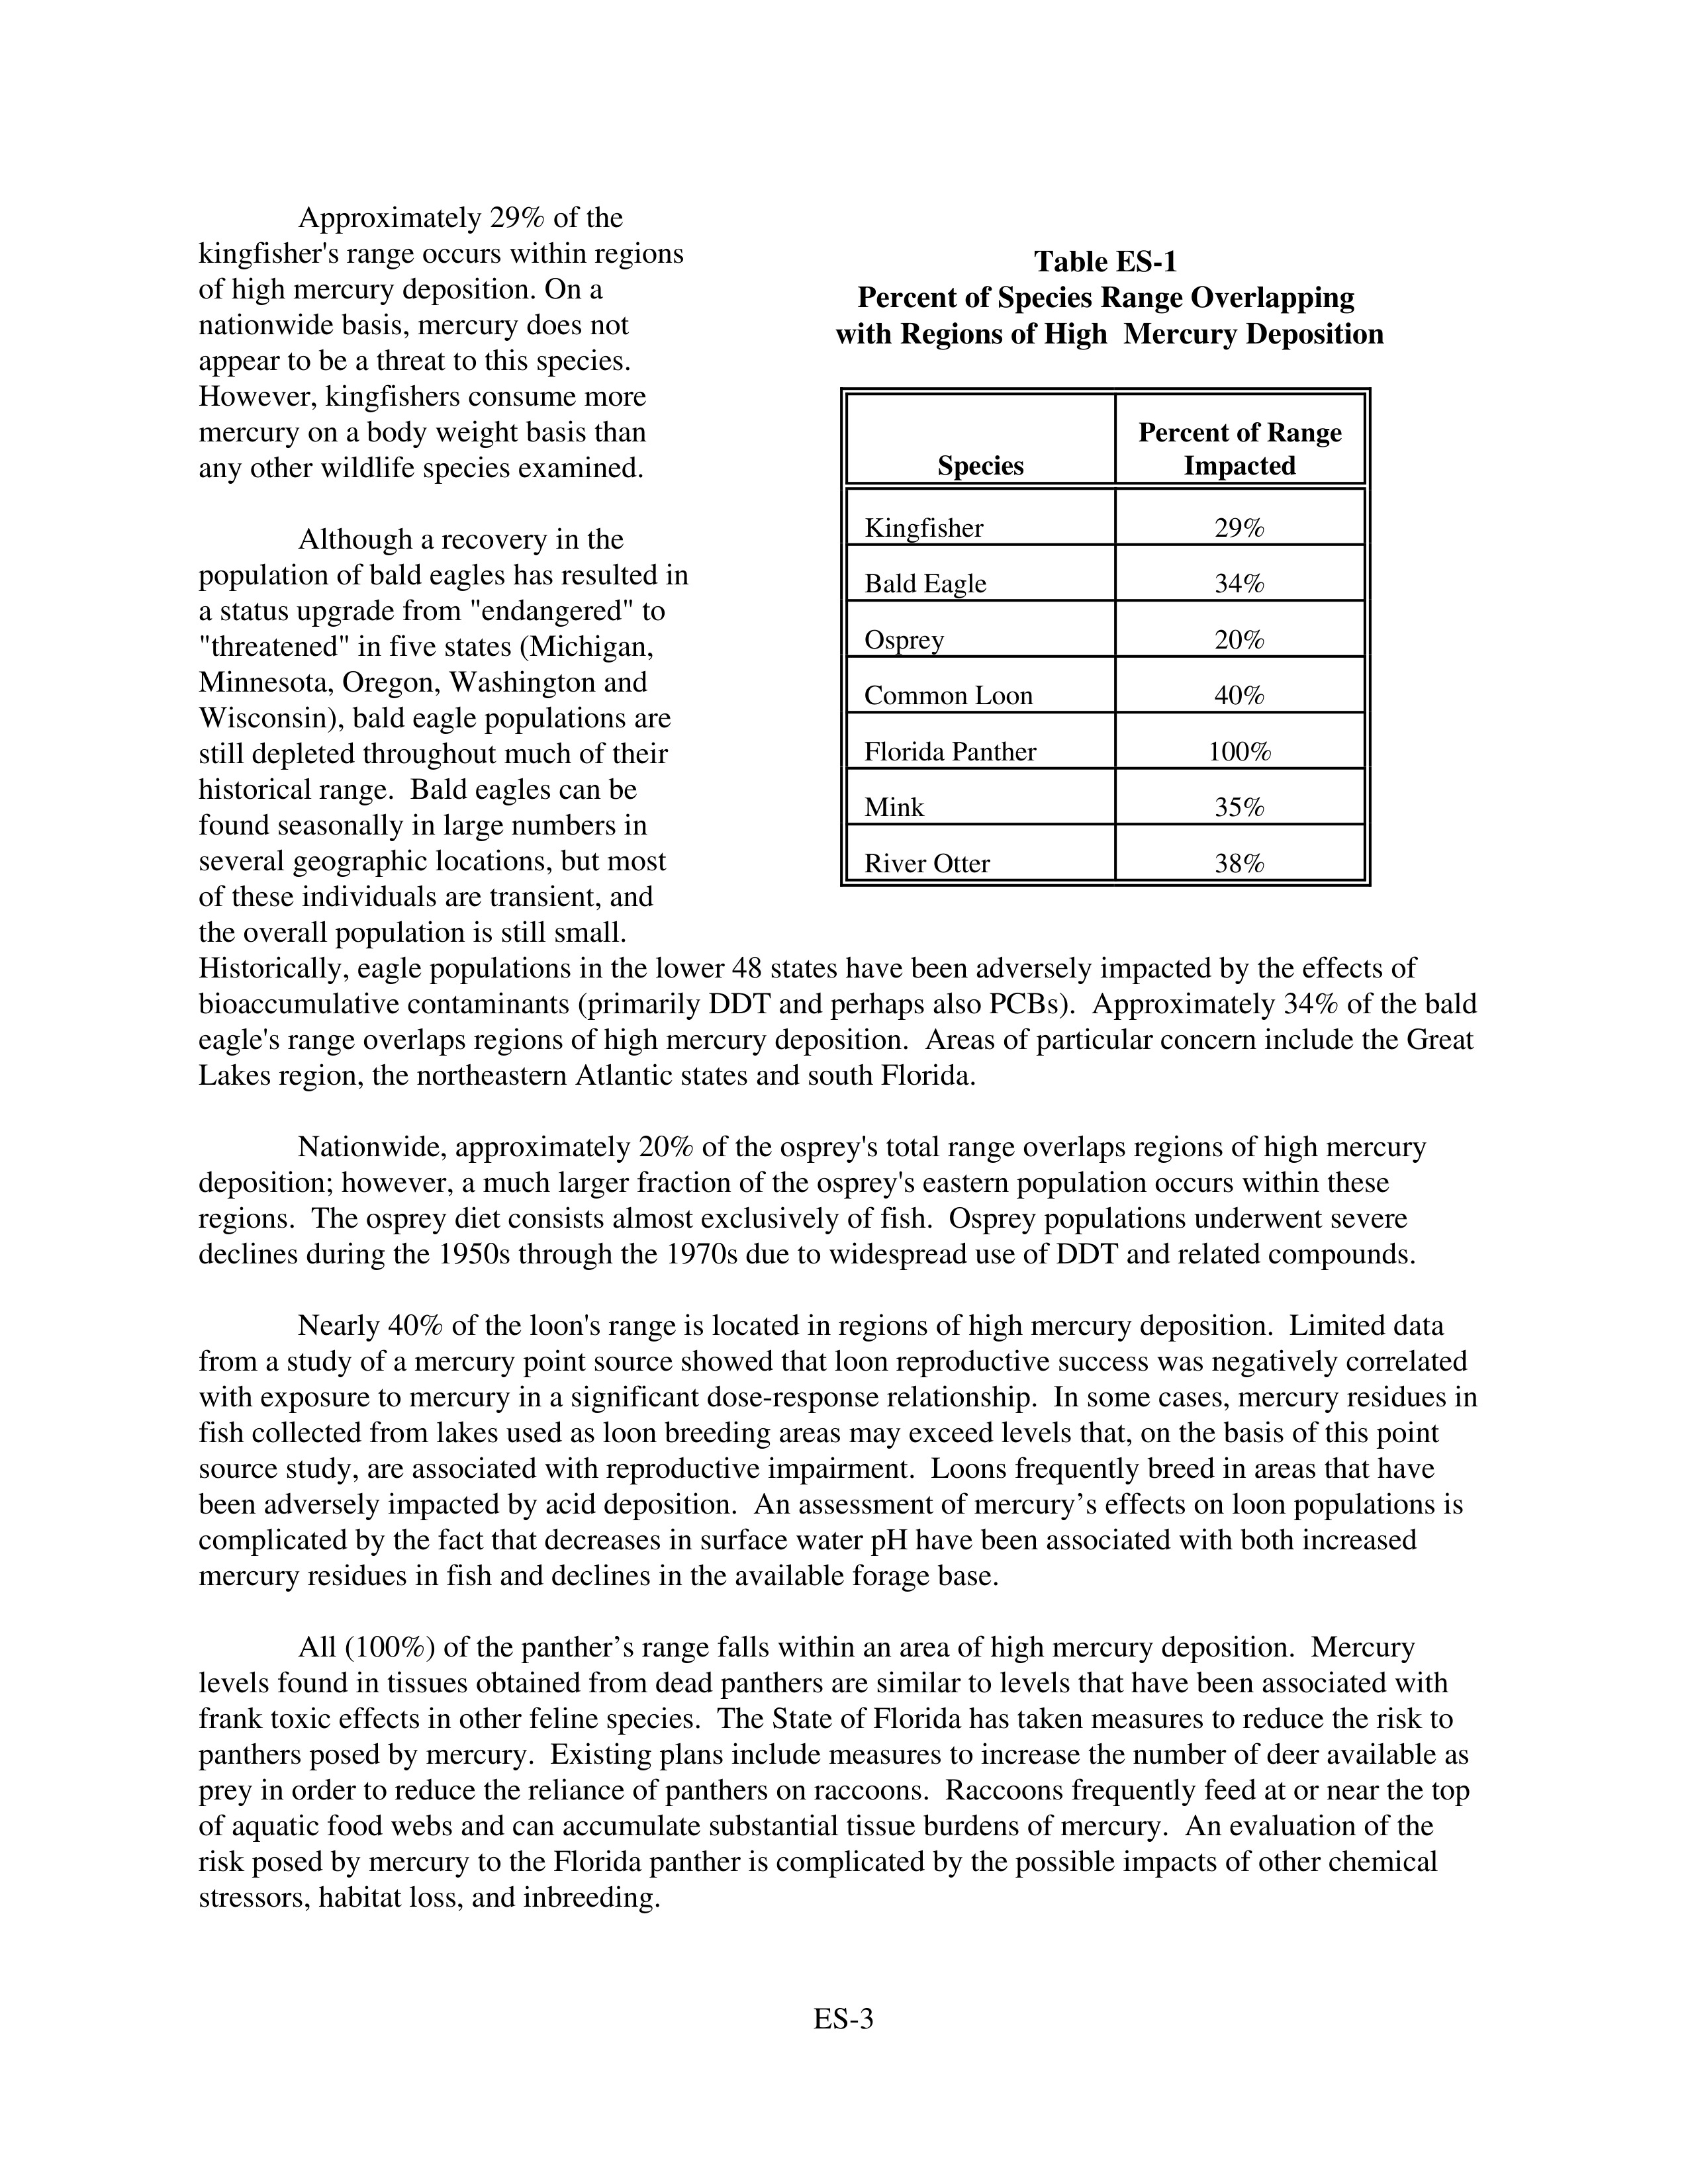table: (865, 413, 1342, 879)
